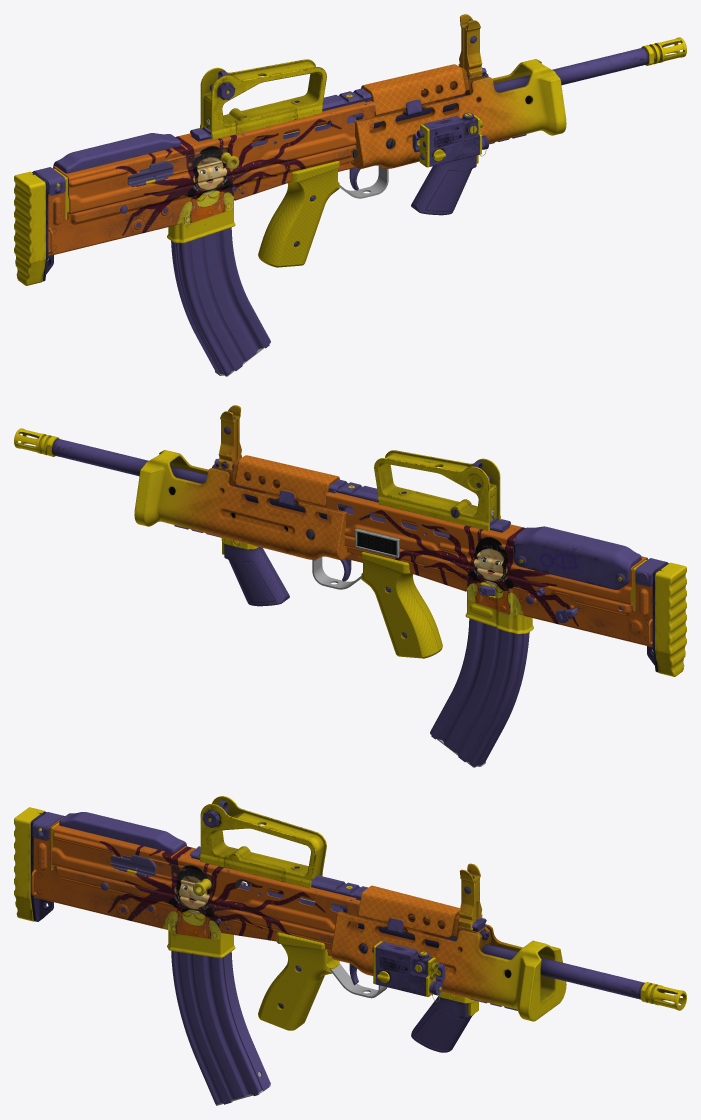
The model's file is assault_rifle.glb.
The picture shows the model from 3 angles, top to bottom: view 1: azimuth 30°, elevation 25°; view 2: azimuth 150°, elevation 25°; view 3: azimuth 330°, elevation 25°; orthographic projection.
Visible parts, largest first — view 1: Object_6, Object_16, Object_26, Object_4, Object_8, Object_30, Object_34, Object_32, Object_10, Object_22, Object_20; view 2: Object_6, Object_16, Object_4, Object_26, Object_8, Object_30, Object_32, Object_22, Object_20, Object_10, Object_14; view 3: Object_6, Object_16, Object_26, Object_8, Object_4, Object_30, Object_34, Object_32, Object_10, Object_22, Object_20.
Part boxes in pixels (x1,y1,x2,y2): Object_6: (33,88,388,256); Object_16: (251,47,648,169); Object_26: (171,227,270,375); Object_4: (14,133,180,285); Object_8: (200,59,326,139); Object_30: (258,161,339,267); Object_34: (417,112,488,167); Object_32: (411,155,478,215); Object_10: (128,147,360,190); Object_22: (458,14,482,79); Object_20: (641,37,686,65); Object_6: (312,479,667,647); Object_16: (52,438,449,560); Object_4: (513,526,686,676); Object_26: (430,585,529,766); Object_8: (374,450,500,530); Object_30: (361,552,442,658); Object_32: (221,537,289,606); Object_22: (218,405,241,470); Object_20: (14,428,59,456); Object_10: (340,558,577,623); Object_14: (357,532,396,555); Object_6: (31,812,387,998); Object_16: (239,885,644,1021); Object_26: (171,951,270,1104); Object_8: (200,796,326,888); Object_4: (14,807,186,921); Object_30: (258,932,339,1030); Object_34: (372,941,442,1001); Object_32: (411,992,478,1052); Object_10: (110,854,358,985); Object_22: (459,863,482,930); Object_20: (640,982,686,1010).
Bounding box in the file's own units: 79.38 × 34.62 × 9.99.
Materials: 11 (11 with a texture image).
